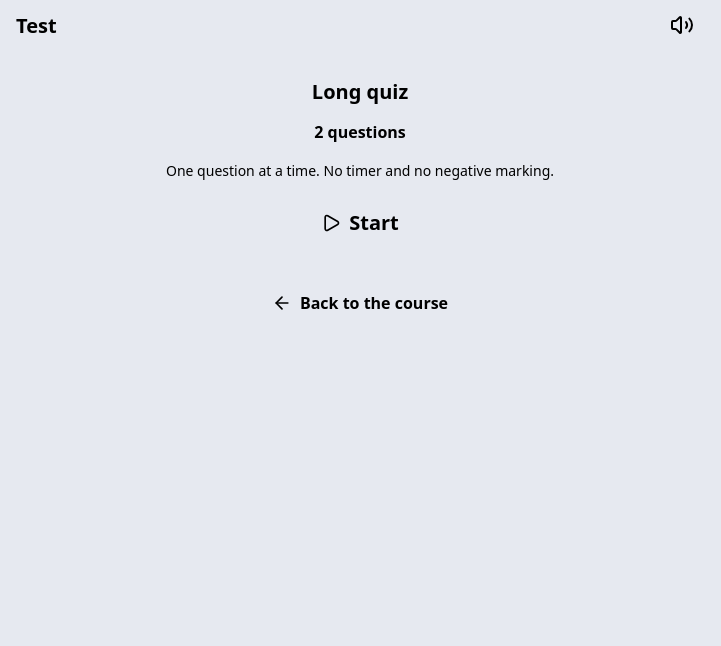
Test: test game layout at 1366 px › question: a very long question and four very long options are all on the page in full, no overlap
The width and height of the screenshot is (721, 646).
Click the button "Start". click: (360, 223)
box: [297,197,423,249]
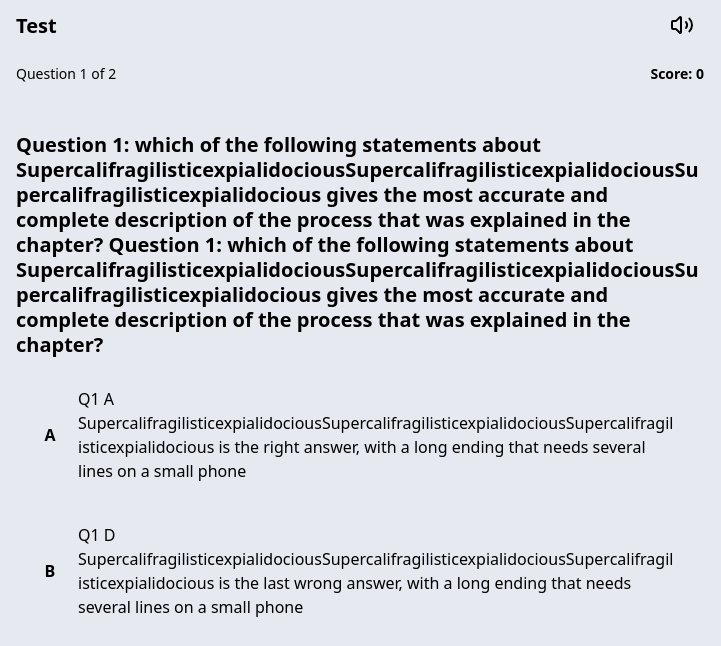
Expected: the 2nd heading is shown, [16,132,704,357]
